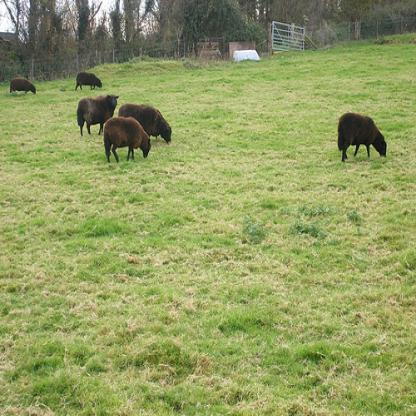sheep: (337, 113, 388, 161), (104, 117, 151, 164), (118, 107, 172, 143), (76, 96, 119, 136), (9, 76, 37, 96), (73, 72, 103, 90)
